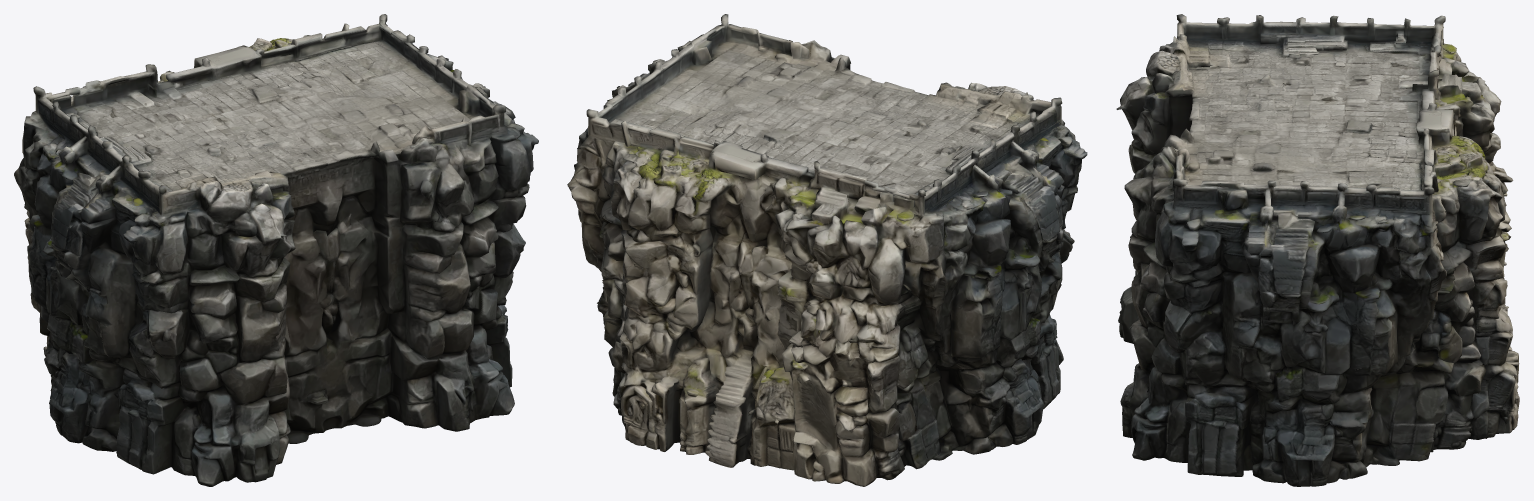
File: terrain.glb
3 views of the same model, side by side, from view 1: azimuth 30°, elevation 25°; view 2: azimuth 150°, elevation 25°; view 3: azimuth 270°, elevation 25° (orthographic).
Visible parts, largest first — view 1: tripo_node_8f589309-0d42-4825-b5a1-0bc2bfee8187; view 2: tripo_node_8f589309-0d42-4825-b5a1-0bc2bfee8187; view 3: tripo_node_8f589309-0d42-4825-b5a1-0bc2bfee8187.
Boxes of the visible parts, left/top/right/bottom form: tripo_node_8f589309-0d42-4825-b5a1-0bc2bfee8187: left=14, top=14, right=538, bottom=486; tripo_node_8f589309-0d42-4825-b5a1-0bc2bfee8187: left=567, top=14, right=1087, bottom=486; tripo_node_8f589309-0d42-4825-b5a1-0bc2bfee8187: left=1116, top=14, right=1519, bottom=486.
Bounding box in the file's own units: 0.9779 × 0.6051 × 0.7627.
Materials: 1 (1 with a texture image).
